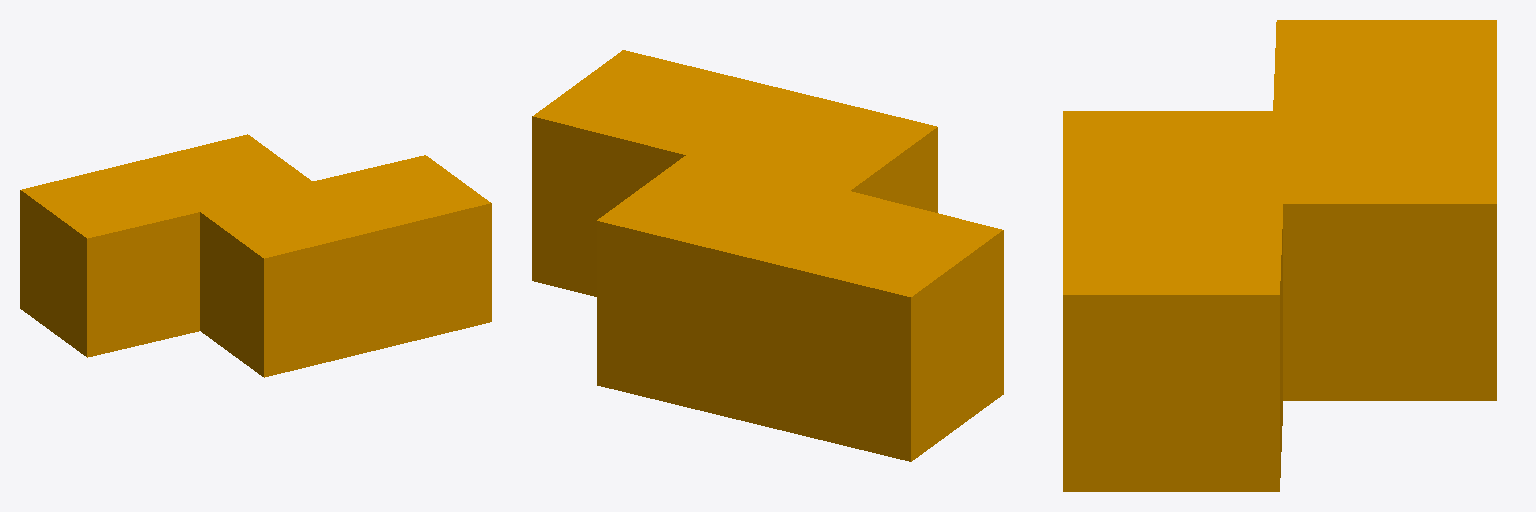
robot.urdf — 2_3Z_1:
<robot name="2_3Z_1">
  <link name="link">
    <visual>
      <geometry>
        <mesh filename="2_3Z_1.obj" scale="1 1 1"/>
      </geometry>
    </visual>
    <collision>
      <geometry>
        <mesh filename="2_3Z_1.obj" scale="1 1 1"/>
      </geometry>
    </collision>
    <inertial>
      <mass value="1"/>
      <inertia ixx="1" iyy="1" izz="1" ixy="0" ixz="0" iyz="0"/>
      <origin xyz="0 0 0" rpy="0 0 0"/>
    </inertial>
  </link>
</robot>

--- What the picture shows (computed from the rendered views, not written in the file) ---
Views: 3 orthographic renders of the robot side by side, from view 1: azimuth 30°, elevation 25°; view 2: azimuth 150°, elevation 25°; view 3: azimuth 270°, elevation 25°.
Robot: 2_3Z_1 — 1 links, 0 joints (none); root link link; default pose: all joints at 0.
Visible links, largest first — view 1: link; view 2: link; view 3: link.
Boxes of the visible links, bbox=[...] form: link: bbox=[20, 134, 491, 377]; link: bbox=[532, 50, 1003, 461]; link: bbox=[1063, 20, 1496, 491].
Size in the robot's own frame: 0.1767 by 0.1184 by 0.0592 metres.
1 mesh visuals loaded from 1 distinct referenced files (1 OBJ).